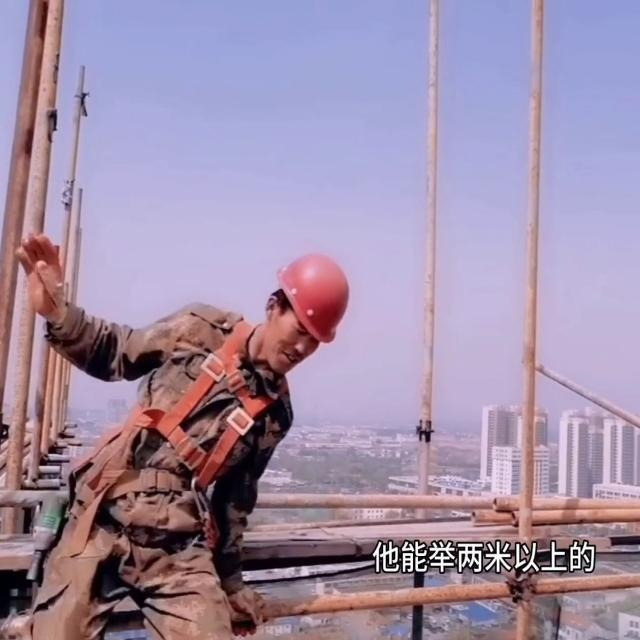Arnes_seguridad: (119, 295, 290, 503)
